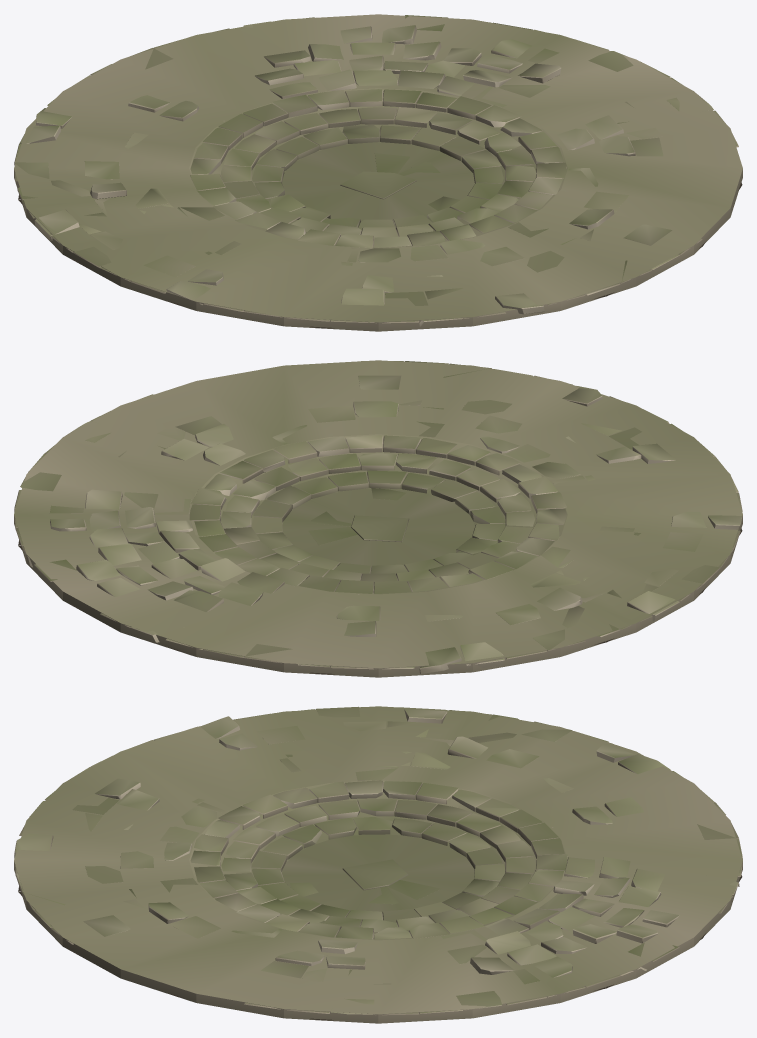
File: baths_floor.glb
The picture shows the model from 3 angles, top to bottom: view 1: azimuth 30°, elevation 25°; view 2: azimuth 150°, elevation 25°; view 3: azimuth 270°, elevation 25°; orthographic projection.
Visible parts, largest first — view 1: baths_floor_far, baths_floor; view 2: baths_floor_far, baths_floor; view 3: baths_floor_far, baths_floor.
Part boxes in pixels (box(x1,y1,x2,y2)): baths_floor_far: box(14, 14, 742, 331); baths_floor: box(14, 15, 742, 328); baths_floor_far: box(14, 360, 742, 677); baths_floor: box(14, 361, 742, 674); baths_floor_far: box(14, 706, 742, 1023); baths_floor: box(14, 706, 742, 1020).
Size of the model in its own units: 71.2 by 2.99 by 71.21.
